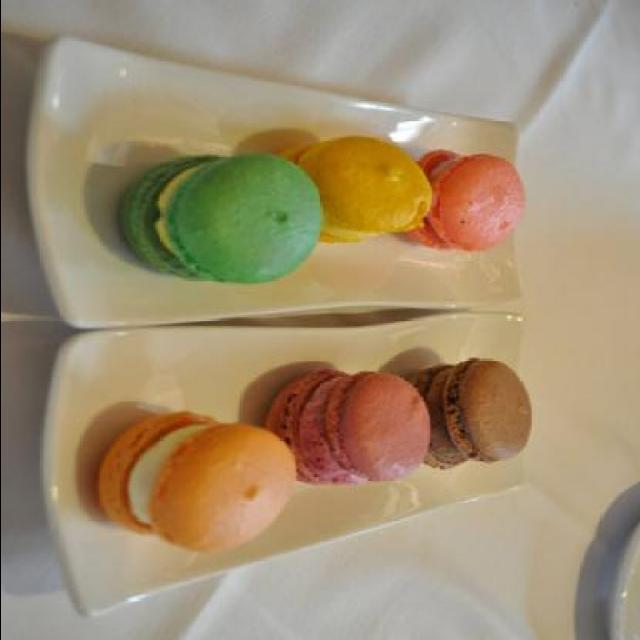Macaron: (87, 356, 533, 556), (112, 132, 530, 283)
